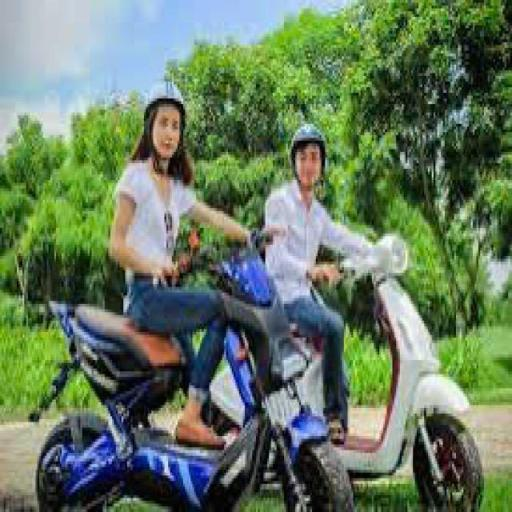with helmet: (142, 74, 190, 112), (287, 118, 329, 154)
